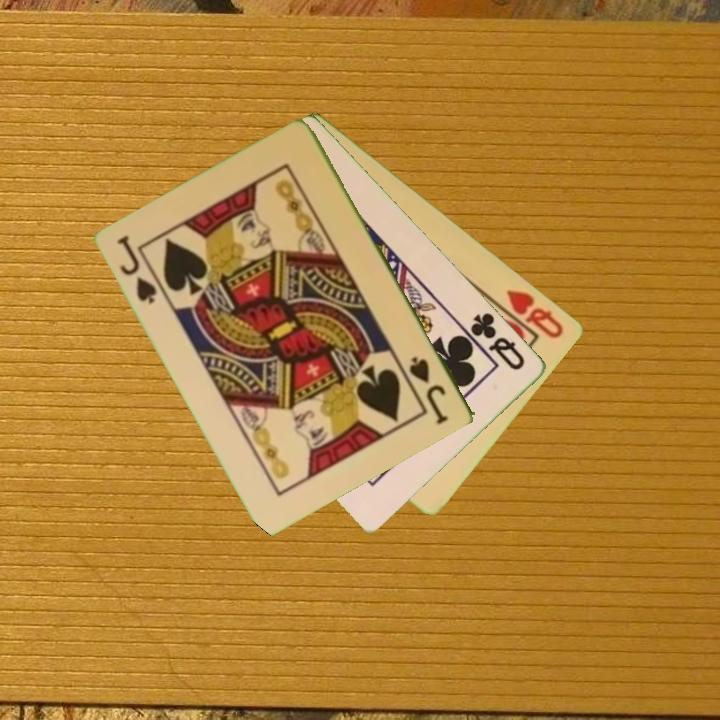Js: (114, 231, 161, 307), (406, 352, 452, 427)
Qc: (467, 309, 529, 374)
Qh: (503, 286, 567, 342)
